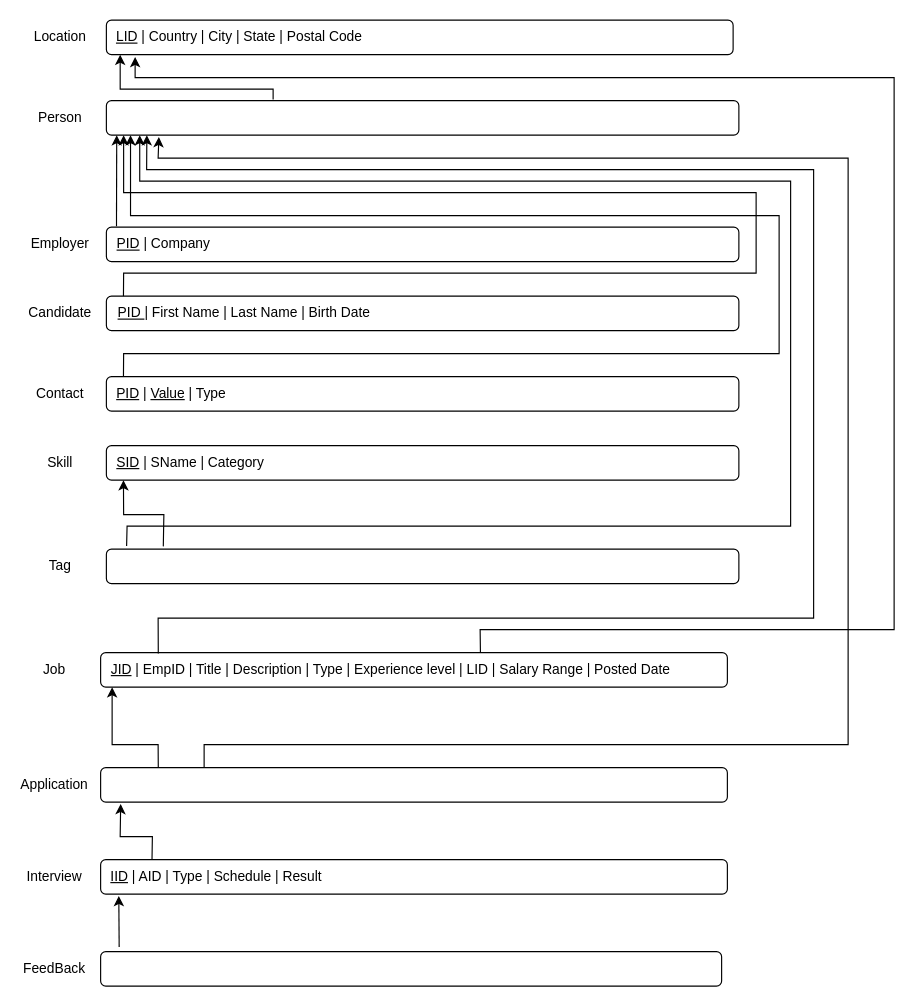
This 923x1006 diagram has some shape labels left out. The centre of each missing label's shape, as x and y in pixels:
"AID | JID | Candidate ID | Date | Status" goes at point 413,784.
"IID | Rating | Notes | Released Date" goes at point 410,968.
"PID | Pass Hash | LID | Registration Date" goes at point 422,117.
"PID | SID | Interest Level" goes at point 422,566.
